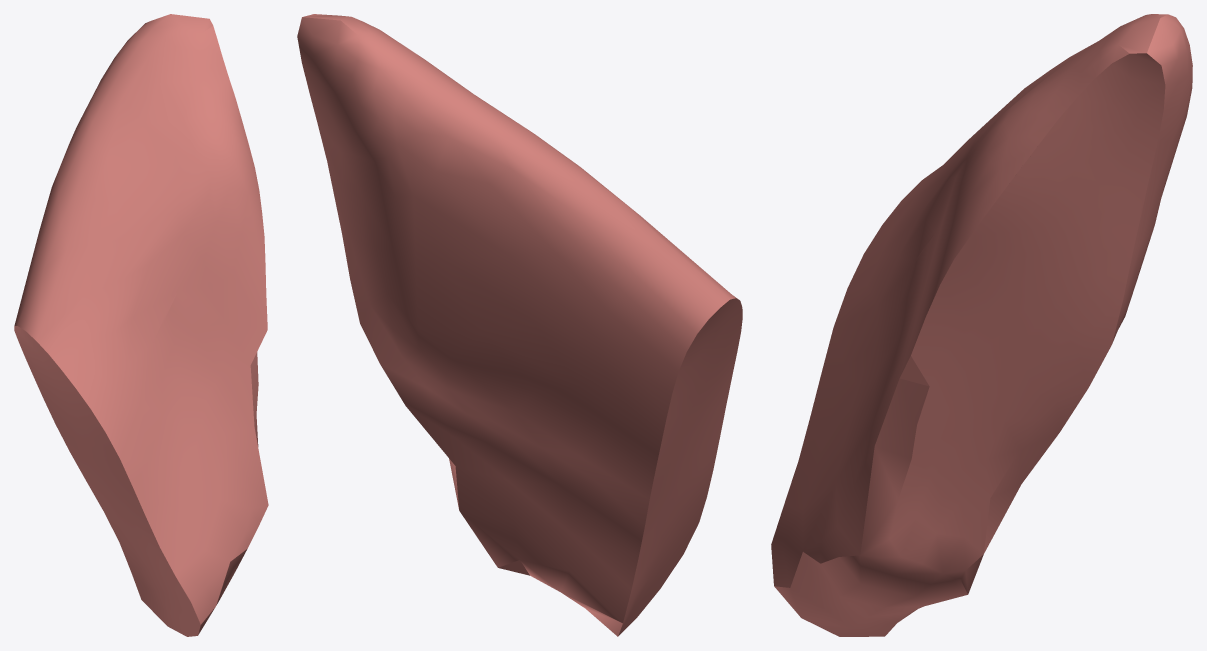
File: fma39267-n_mm1934.glb
The picture shows the model from 3 angles, left to right: view 1: azimuth 30°, elevation 25°; view 2: azimuth 150°, elevation 25°; view 3: azimuth 270°, elevation 25°; orthographic projection. The views are drawn at different scales.
Parts seen in each view (by area): view 1: FMA39267-N_MM1934; view 2: FMA39267-N_MM1934; view 3: FMA39267-N_MM1934.
Boxes of the visible parts, x1,y1,x2,y2 form: FMA39267-N_MM1934: [14, 14, 268, 636]; FMA39267-N_MM1934: [297, 14, 742, 636]; FMA39267-N_MM1934: [771, 14, 1192, 636].
Size of the model in its own units: 0.0103 by 0.02 by 0.0111.
